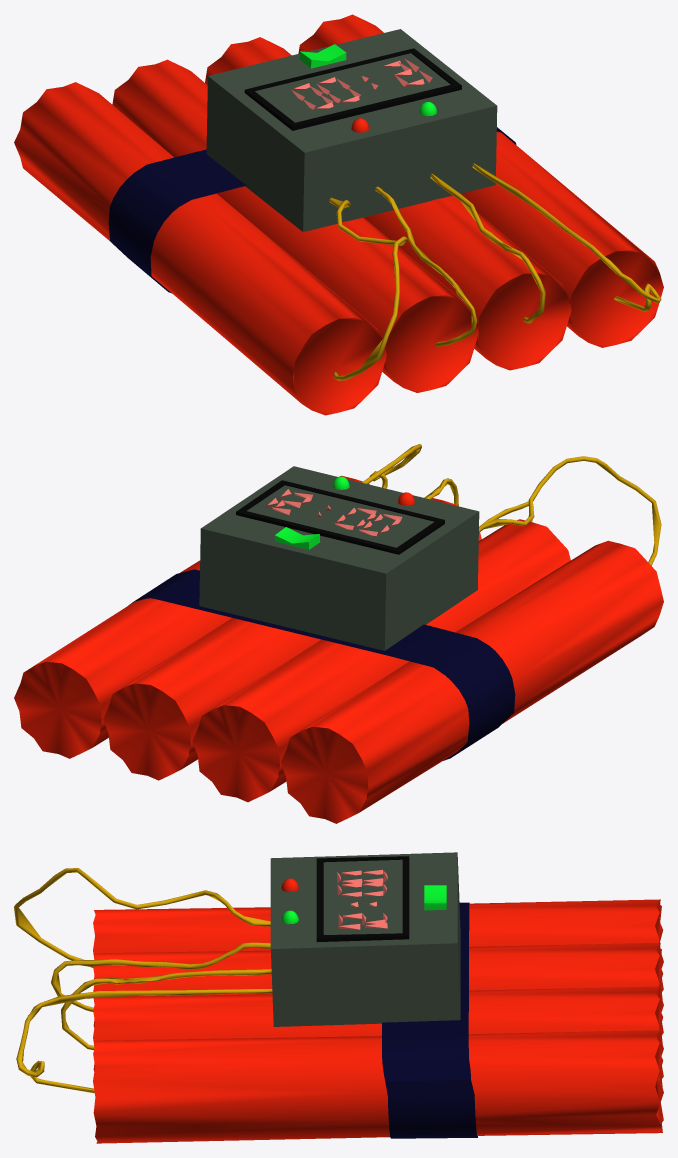
The model's file is tnt.fbx.
3 renders of one model, top to bottom at view 1: azimuth 30°, elevation 25°; view 2: azimuth 150°, elevation 25°; view 3: azimuth 270°, elevation 25°, orthographic. The views are drawn at different scales.
Visible parts, largest first — view 1: pCylinder8, pCube1, Skotch, Provodulik_2, pCube2, pCube4, pCube25, Knopka; view 2: pCylinder8, pCube1, Skotch, pCube2, Provodulik_2, pCube4, pCube25, Knopka; view 3: pCylinder8, pCube1, Skotch, Provodulik_2, pCube2, pCube4, pCube25, Knopka.
Part boxes in pixels (x1,y1,x2,y2): pCylinder8: [14, 14, 663, 415]; pCube1: [206, 29, 497, 231]; Skotch: [108, 127, 516, 293]; Provodulik_2: [329, 163, 661, 380]; pCube2: [255, 53, 450, 122]; pCube4: [244, 48, 461, 130]; pCube25: [291, 59, 432, 110]; Knopka: [299, 44, 346, 68]; pCylinder8: [14, 475, 663, 823]; pCube1: [199, 466, 479, 650]; Skotch: [128, 569, 515, 760]; pCube2: [247, 485, 434, 547]; Provodulik_2: [362, 444, 661, 565]; pCube4: [236, 480, 444, 554]; pCube25: [264, 489, 402, 536]; Knopka: [275, 527, 320, 549]; pCylinder8: [93, 899, 663, 1143]; pCube1: [270, 852, 460, 1026]; Skotch: [382, 902, 477, 1138]; Provodulik_2: [14, 868, 272, 1093]; pCube2: [323, 859, 402, 934]; pCube4: [316, 856, 409, 942]; pCube25: [337, 869, 387, 929]; Knopka: [424, 885, 446, 910].
Bounding box in the file's own units: 17.07 × 8.3 × 25.89.
